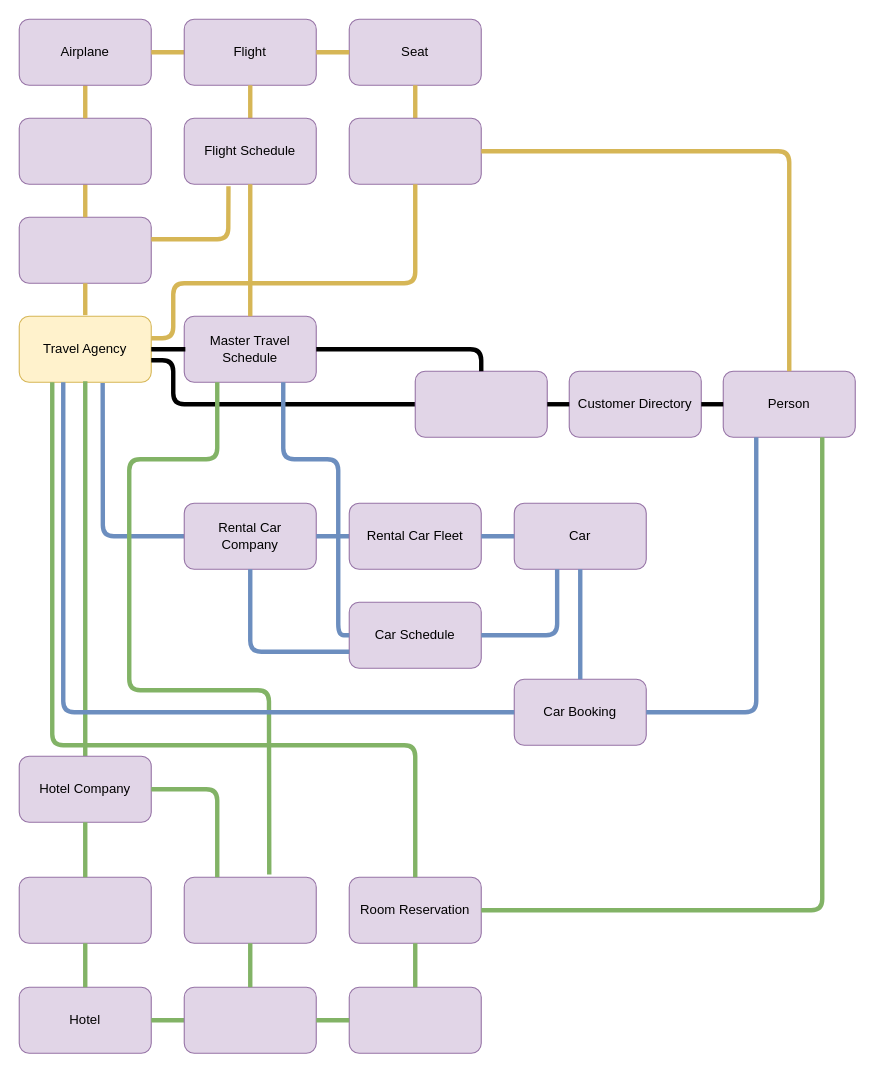
Some shapes in this 875 by 1073 pixel diagram are drawn without their labels. The shapes that lost their labels are listed below. From the top down, each one's centre as x and y in pixels, then its label:
At pixel 84 150: "Airline Fleet".
At pixel 414 150: "Ticket".
At pixel 84 249: "Airliner".
At pixel 480 403: "Travel Office".
At pixel 84 909: "Hotel Fleet".
At pixel 249 909: "Room Schedule".
At pixel 249 1019: "Room".
At pixel 414 1019: "Room Number".
